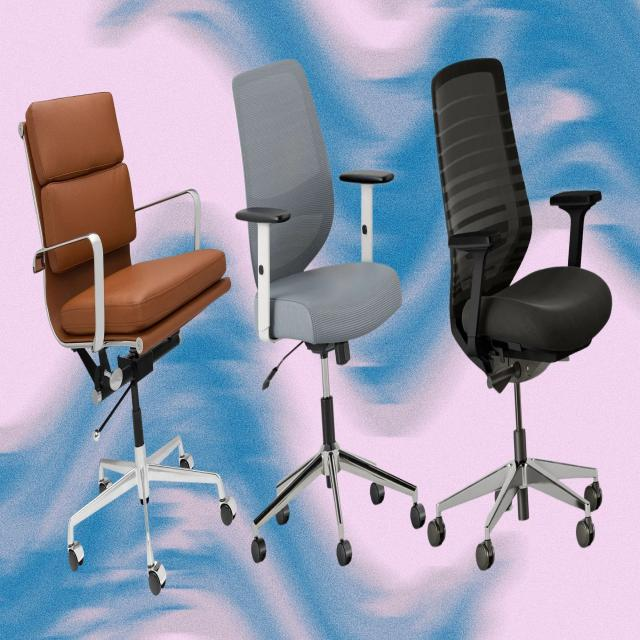chair: (18, 90, 237, 596), (231, 57, 426, 567), (427, 56, 612, 571)
